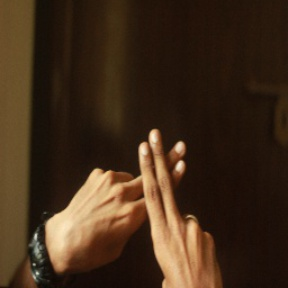F: (117, 121, 198, 246)
